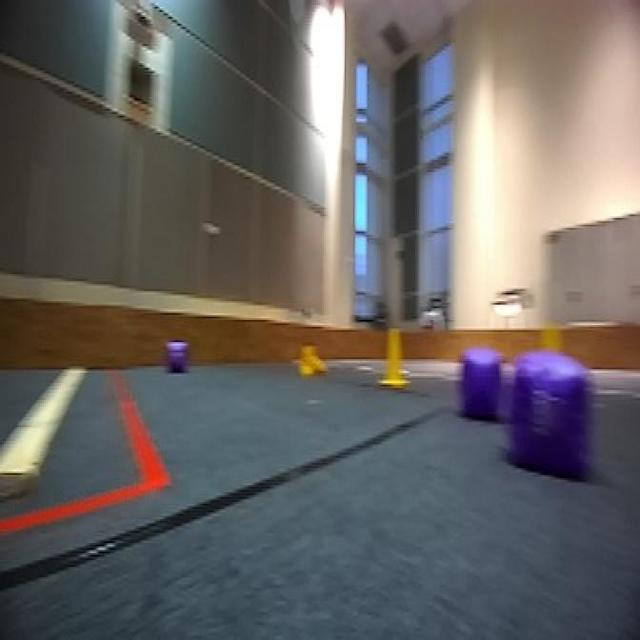frc_cone: (378, 323, 411, 390), (294, 340, 329, 380)
frc_cube: (505, 354, 592, 478), (461, 359, 500, 415), (162, 339, 188, 378)
